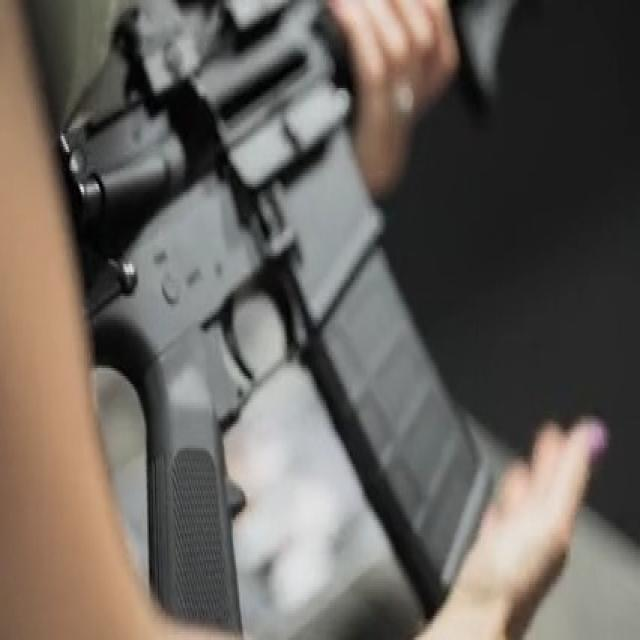Gun_Holder: (57, 13, 625, 627)
